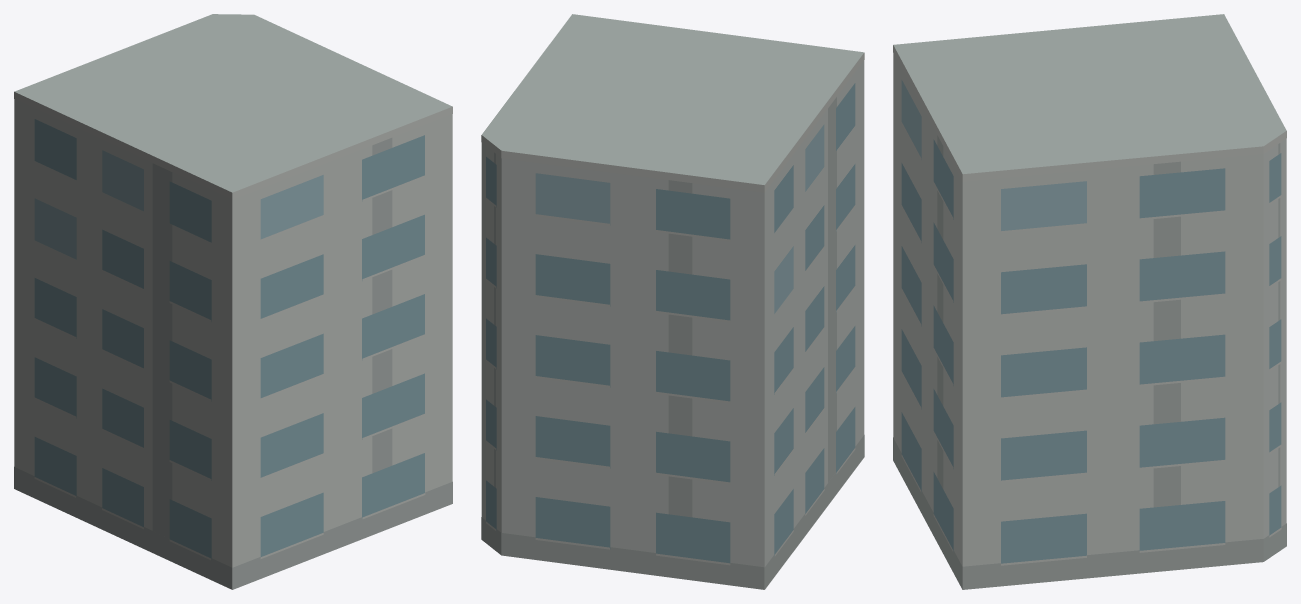
File: survey-upis-33020630.glb
The picture shows the model from 3 angles, left to right: view 1: azimuth 30°, elevation 25°; view 2: azimuth 150°, elevation 25°; view 3: azimuth 270°, elevation 25°; orthographic projection. The views are drawn at different scales.
Parts seen in each view (by area): view 1: survey-upis-33020630.tmp; view 2: survey-upis-33020630.tmp; view 3: survey-upis-33020630.tmp.
Part boxes in pixels (left/top/right/bottom): survey-upis-33020630.tmp: left=14, top=14, right=452, bottom=589; survey-upis-33020630.tmp: left=481, top=14, right=864, bottom=589; survey-upis-33020630.tmp: left=893, top=14, right=1286, bottom=589.
Size of the model in its own units: 10.92 by 13.2 by 11.34.
